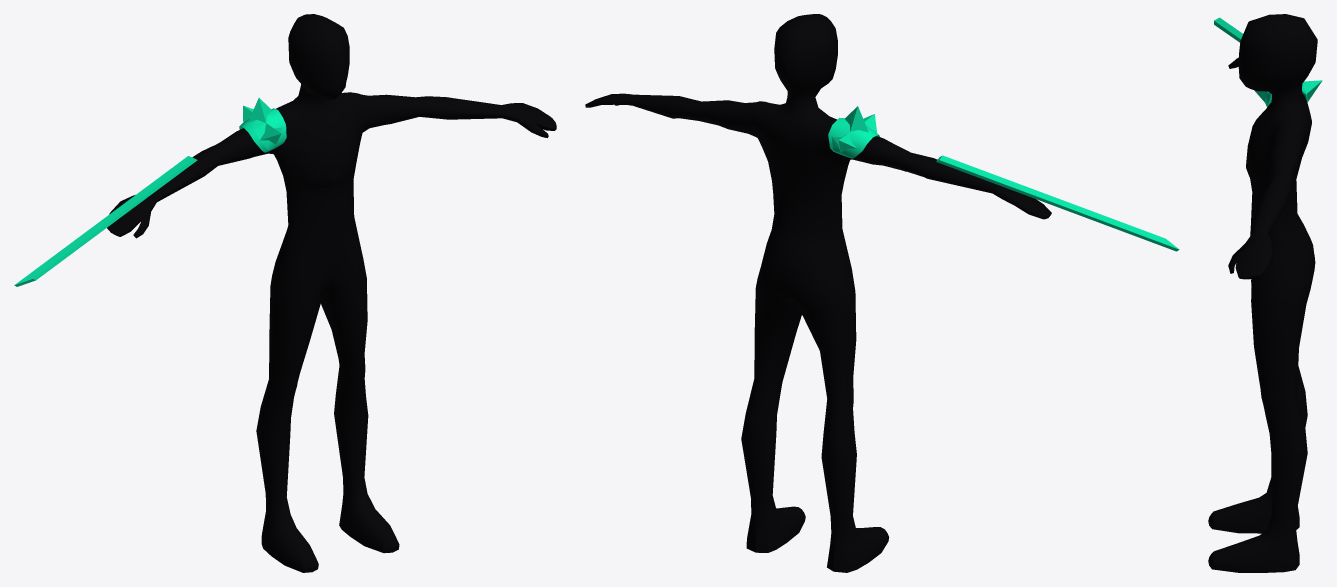
The model's file is MelwareUnwrap.fbx.
3 views of the same model, side by side, from view 1: azimuth 30°, elevation 25°; view 2: azimuth 150°, elevation 25°; view 3: azimuth 270°, elevation 25° (orthographic). The views are drawn at different scales.
Parts seen in each view (by area): view 1: EnemigoMelee; view 2: EnemigoMelee; view 3: EnemigoMelee.
Boxes of the visible parts, x1,y1,x2,y2 form: EnemigoMelee: [14, 14, 556, 572]; EnemigoMelee: [585, 14, 1179, 572]; EnemigoMelee: [1208, 14, 1322, 572].
Size of the model in its own units: 52.64 by 46.93 by 9.2.
